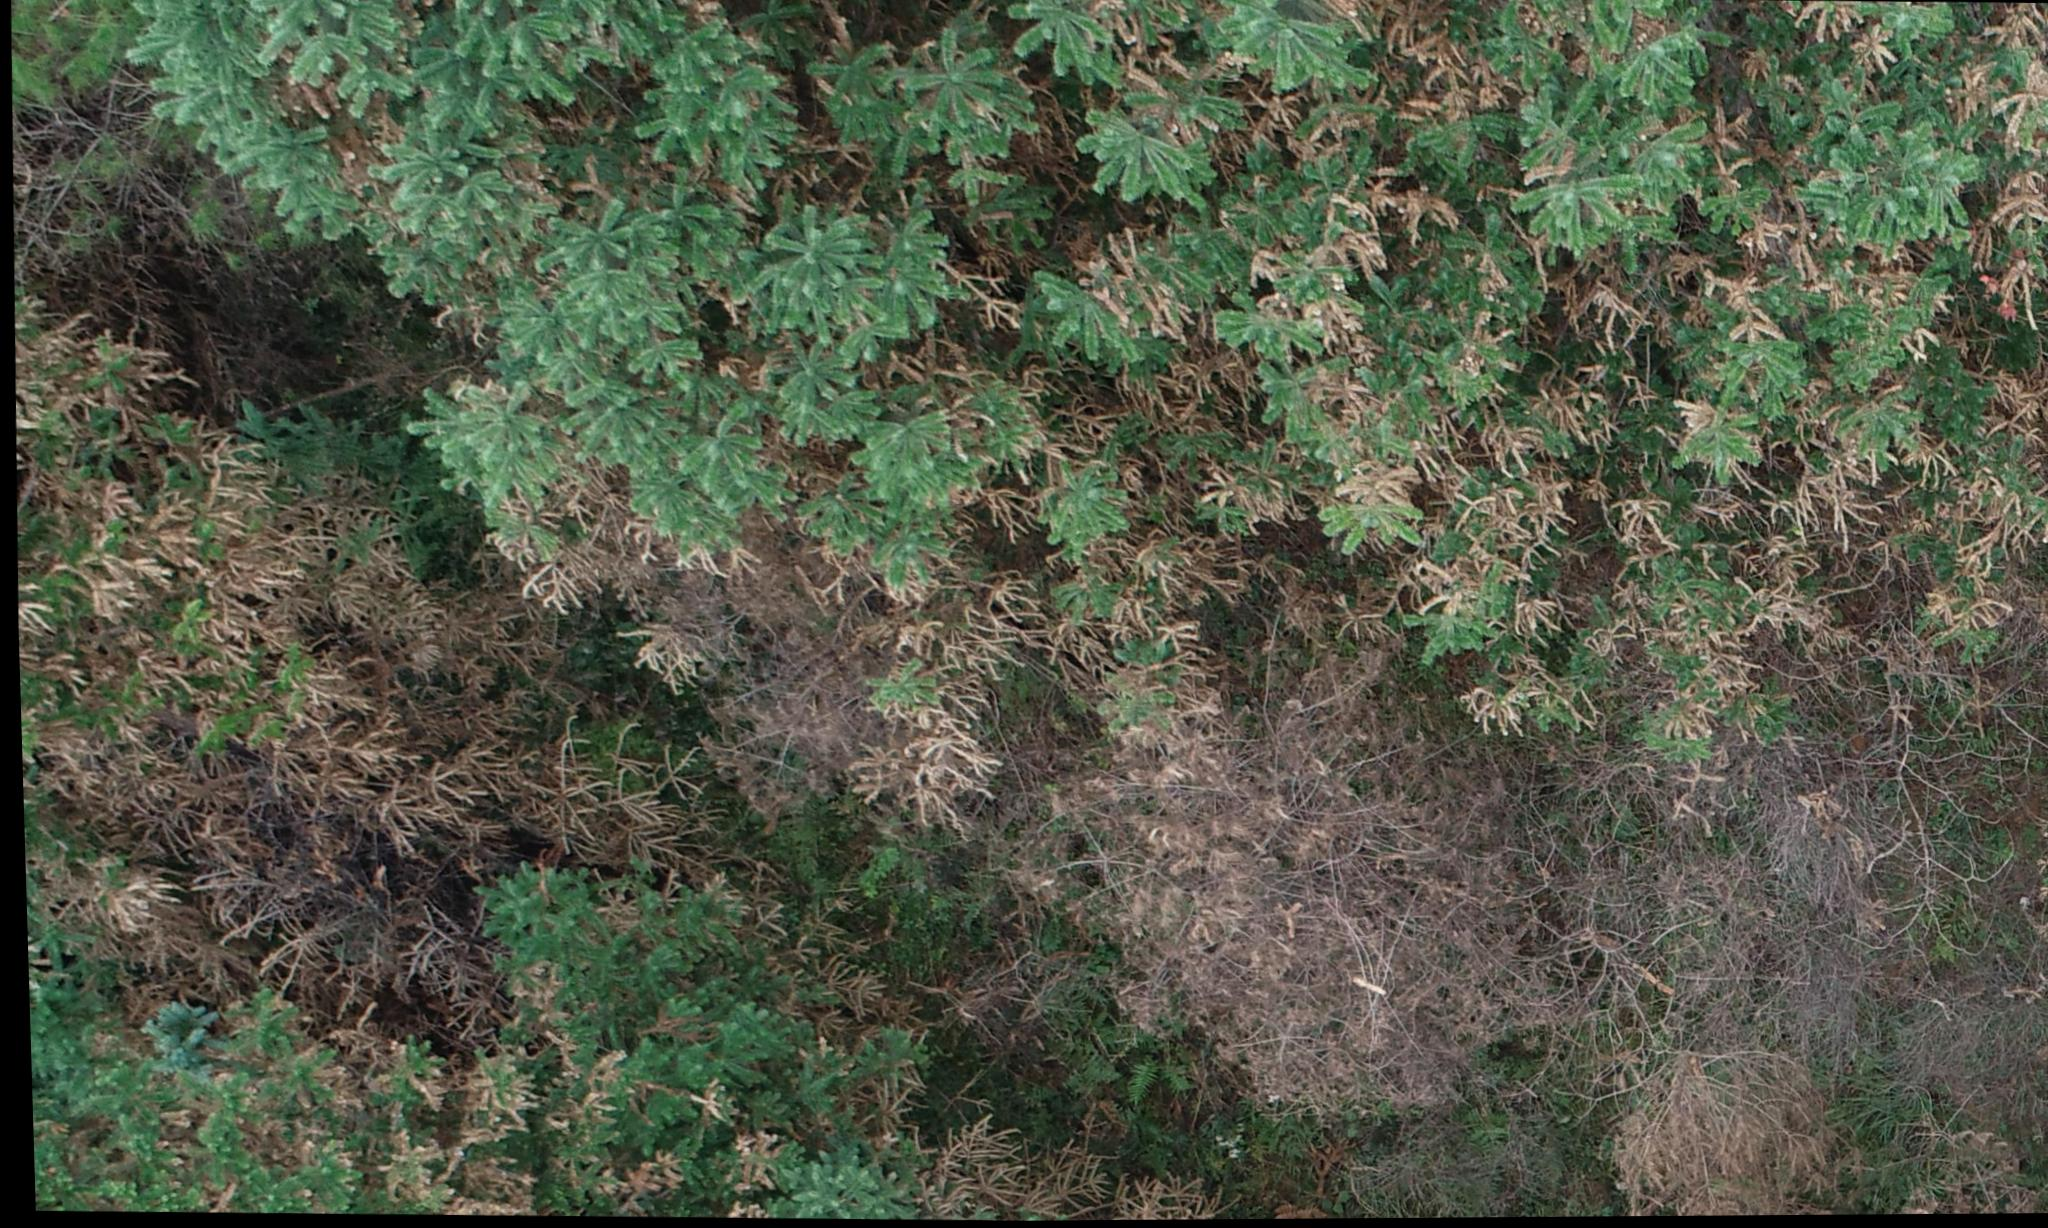dead: (1073, 773, 2048, 1222)
heavy: (7, 279, 656, 1029)
light: (1009, 0, 2048, 781)
